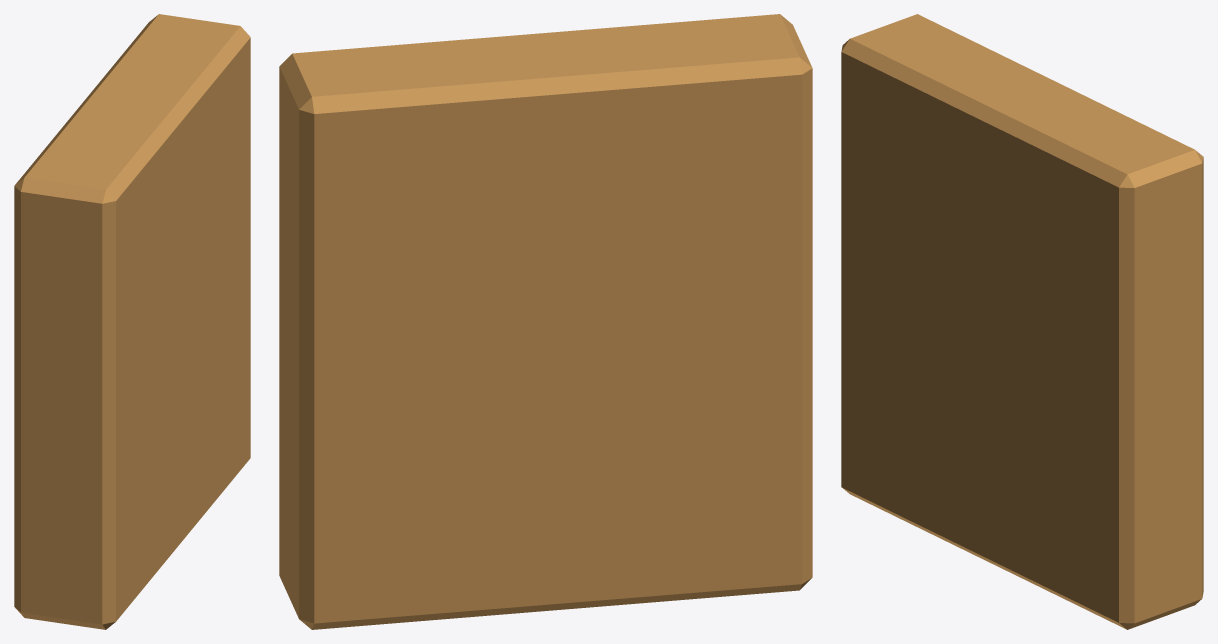
The model's file is Sector7_Gold_1.fbx.
The picture shows the model from 3 angles, left to right: view 1: azimuth 30°, elevation 25°; view 2: azimuth 150°, elevation 25°; view 3: azimuth 270°, elevation 25°; orthographic projection. The views are drawn at different scales.
Visible parts, largest first — view 1: Sector7_Gold_1; view 2: Sector7_Gold_1; view 3: Sector7_Gold_1.
Part boxes in pixels (x1,y1,x2,y2): Sector7_Gold_1: (14, 14, 250, 629); Sector7_Gold_1: (279, 14, 812, 629); Sector7_Gold_1: (841, 14, 1203, 629).
Size of the model in its own units: 710 by 900 by 648.
